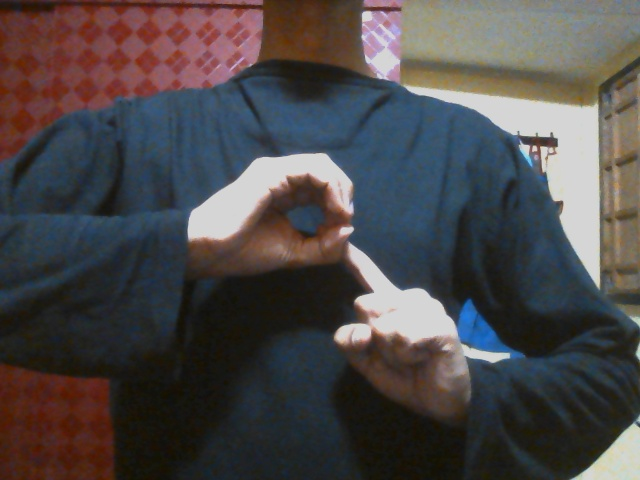Q: (191, 150, 471, 427)
